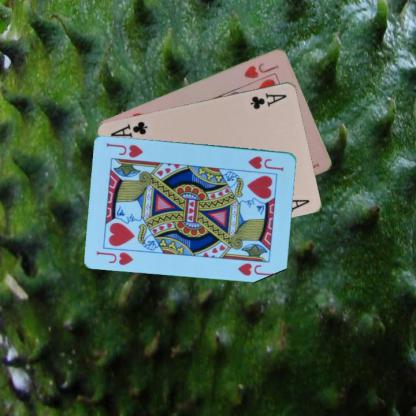Ac: (248, 90, 288, 110)
Jh: (241, 60, 281, 80), (245, 153, 285, 172), (94, 248, 134, 266)
